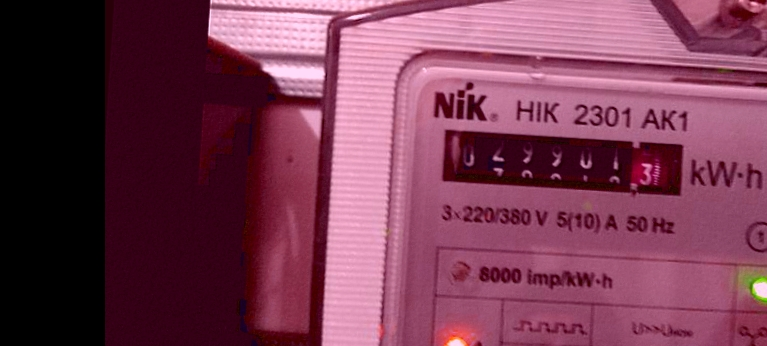0: (459, 140, 479, 168), (578, 142, 596, 172)
1: (610, 143, 624, 172)
2: (490, 136, 510, 164)
3: (638, 160, 656, 187)
9: (520, 138, 537, 166), (551, 141, 565, 169)
screen: (433, 118, 697, 207)
